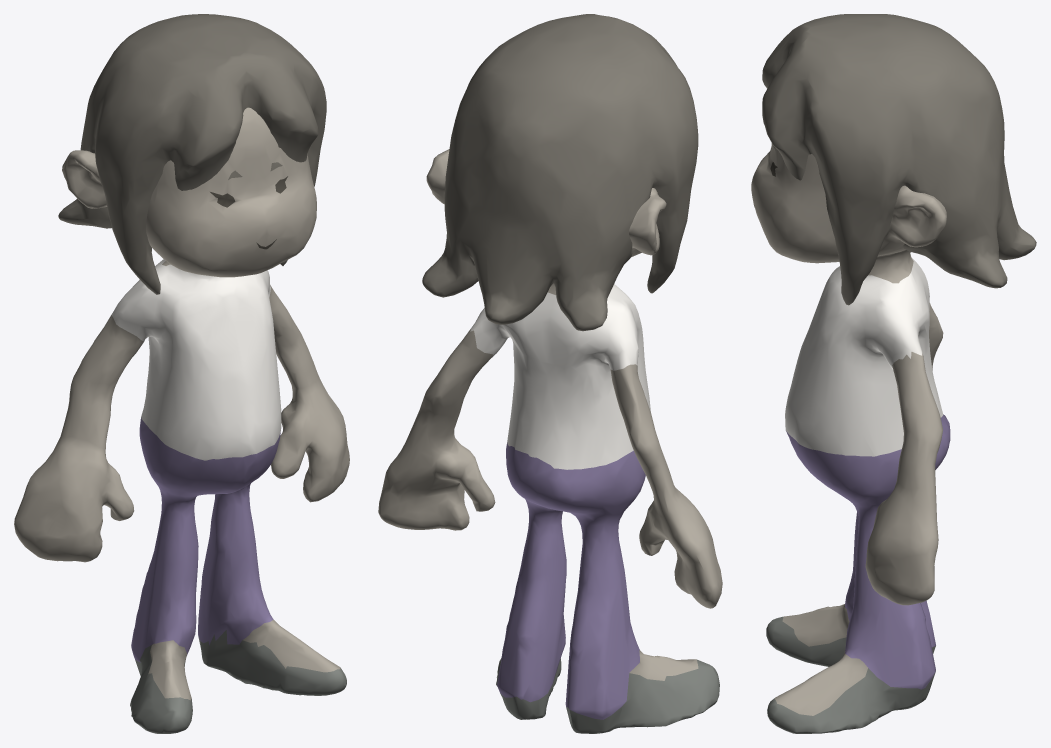
File: violet.fbx
3 renders of one model, left to right at view 1: azimuth 30°, elevation 25°; view 2: azimuth 150°, elevation 25°; view 3: azimuth 270°, elevation 25°, orthographic. The views are drawn at different scales.
Parts seen in each view (by area): view 1: PM3D_Sphere3D2; view 2: PM3D_Sphere3D2; view 3: PM3D_Sphere3D2.
Boxes of the visible parts, x1,y1,x2,y2 form: PM3D_Sphere3D2: (14,14,349,733); PM3D_Sphere3D2: (378,14,722,733); PM3D_Sphere3D2: (751,14,1036,733).
Size of the model in its own units: 5.05 by 9.69 by 3.76.
